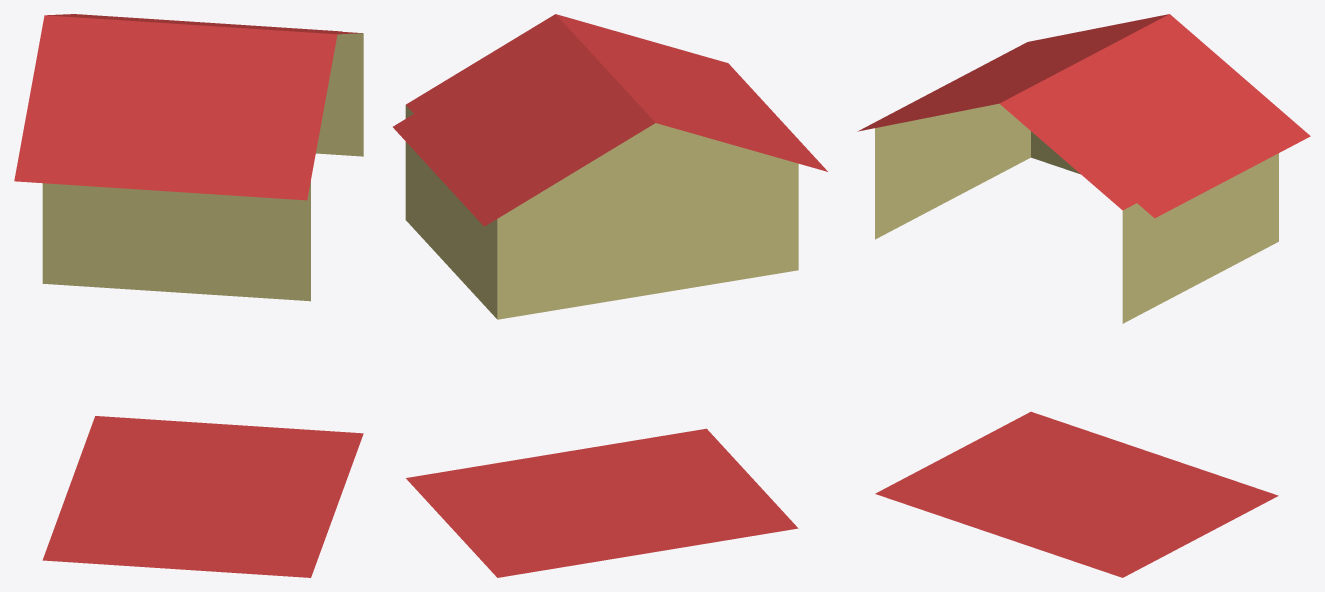
3 renders of one model, left to right at view 1: azimuth 30°, elevation 25°; view 2: azimuth 150°, elevation 25°; view 3: azimuth 270°, elevation 25°, orthographic. The views are drawn at different scales.
Bounding box in the file's own units: 9.34 × 9.96 × 10.47.
